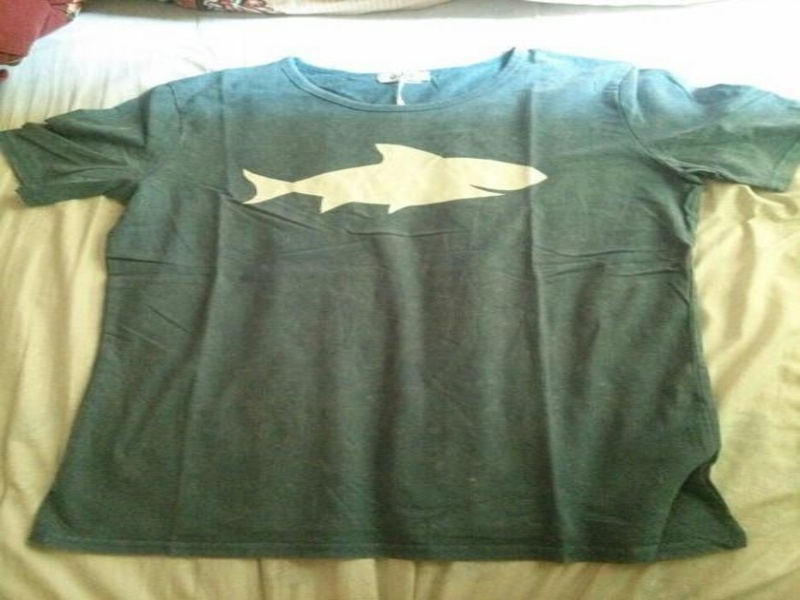short_sleeved_shirt: (0, 42, 798, 572)
